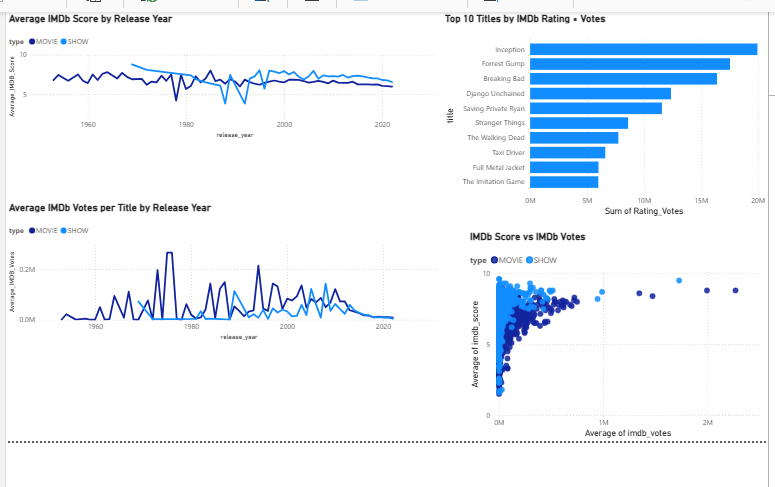

The dashboard page shown, as its layout file describes it:
{"tool":"powerbi","page":{"name":"IMDb Analysis","canvas":[1280,720],"ordinal":1},"visuals":[{"type":"lineChart","title":"Average IMDb Score by Release Year","fields":{"Category":["Netflix.release_year"],"Y":["Netflix.Average_IMDB_Score"],"Series":["Netflix.type"]},"box":[0,0,732.4,216.7],"z":0},{"type":"lineChart","title":"Average IMDb Votes per Title by Release Year","fields":{"Category":["Netflix.release_year"],"Y":["Netflix.Average_IMDB_Votes"],"Series":["Netflix.type"]},"box":[0,317.5,732.4,238.5],"z":2000},{"type":"clusteredBarChart","title":"Top 10 Titles by IMDb Rating × Votes","fields":{"Category":["Netflix.title"],"Y":["Sum(Netflix.Rating_Votes)"]},"box":[732.4,0,547.6,347.7],"z":3000},{"type":"scatterChart","title":"IMDb Score vs IMDb Votes","fields":{"X":["Avg(Netflix.imdb_votes)"],"Y":["Avg(Netflix.imdb_score)"],"Category":["Netflix.title"],"Series":["Netflix.type"]},"box":[774.4,366.2,505.6,354.4],"z":4000}]}

Visuals, with their boxes on the page's 1280x720 design canvas (x1, y1, x2, y2). These are canvas units, not pixel positions in the 775x487 screenshot, which may show the page scaled, cropped or inside an application window:
"Average IMDb Score by Release Year" lineChart: 0, 0, 732, 217
"Average IMDb Votes per Title by Release Year" lineChart: 0, 318, 732, 556
"Top 10 Titles by IMDb Rating × Votes" clusteredBarChart: 732, 0, 1280, 348
"IMDb Score vs IMDb Votes" scatterChart: 774, 366, 1280, 721
